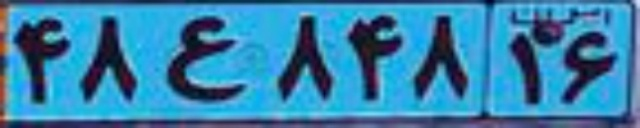1: (503, 30, 544, 104)
4: (10, 17, 69, 105), (347, 13, 402, 101)
6: (560, 31, 617, 105)
8: (75, 13, 139, 104), (273, 13, 336, 103), (407, 14, 471, 100)
ain: (164, 13, 247, 103)
